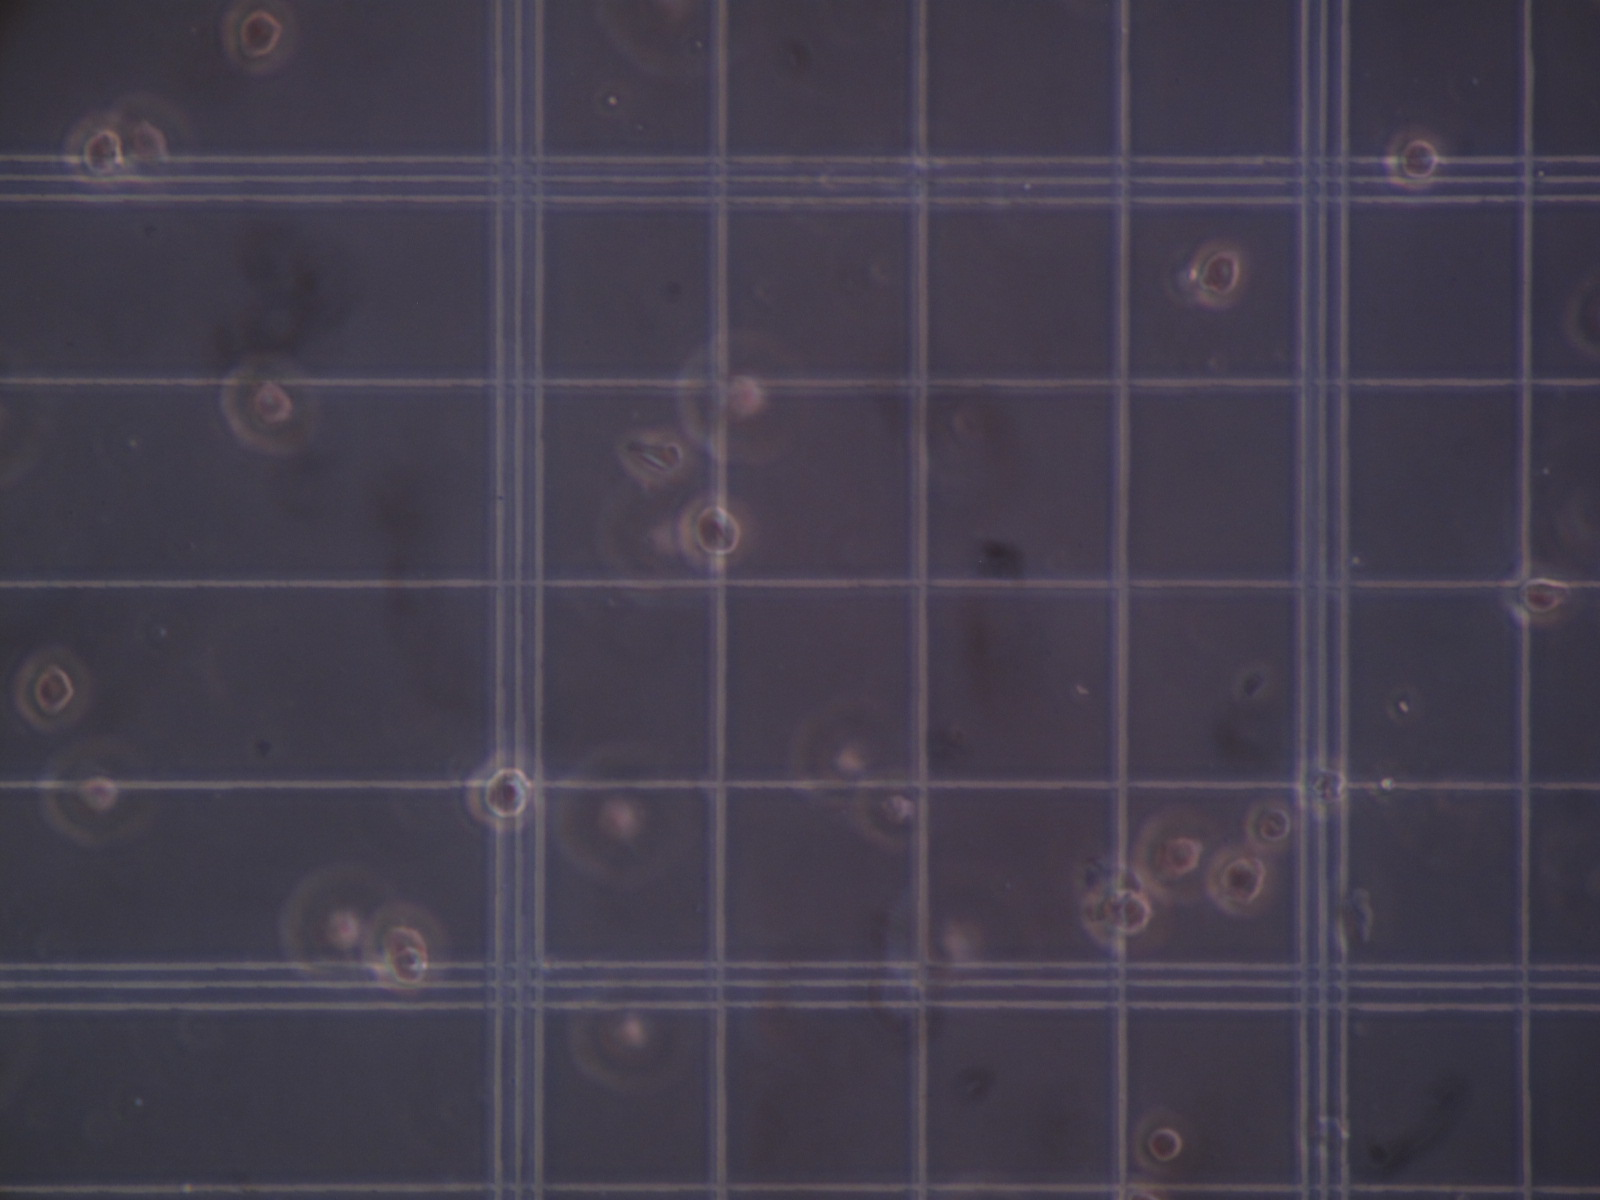hemo: (551, 741, 695, 887), (680, 332, 813, 465), (567, 972, 694, 1093), (784, 697, 905, 812), (280, 860, 391, 979), (38, 736, 157, 846), (220, 354, 323, 455), (111, 89, 195, 198), (1076, 868, 1175, 955), (1135, 807, 1225, 897), (365, 900, 445, 1000), (464, 747, 542, 834), (15, 645, 92, 734), (678, 492, 758, 565), (1500, 558, 1584, 629), (849, 770, 922, 850), (222, 1, 299, 76), (62, 113, 132, 192), (1209, 845, 1275, 918), (1188, 236, 1249, 310), (1130, 1108, 1196, 1174), (1383, 126, 1441, 190), (1293, 758, 1351, 822), (1243, 799, 1296, 853)
